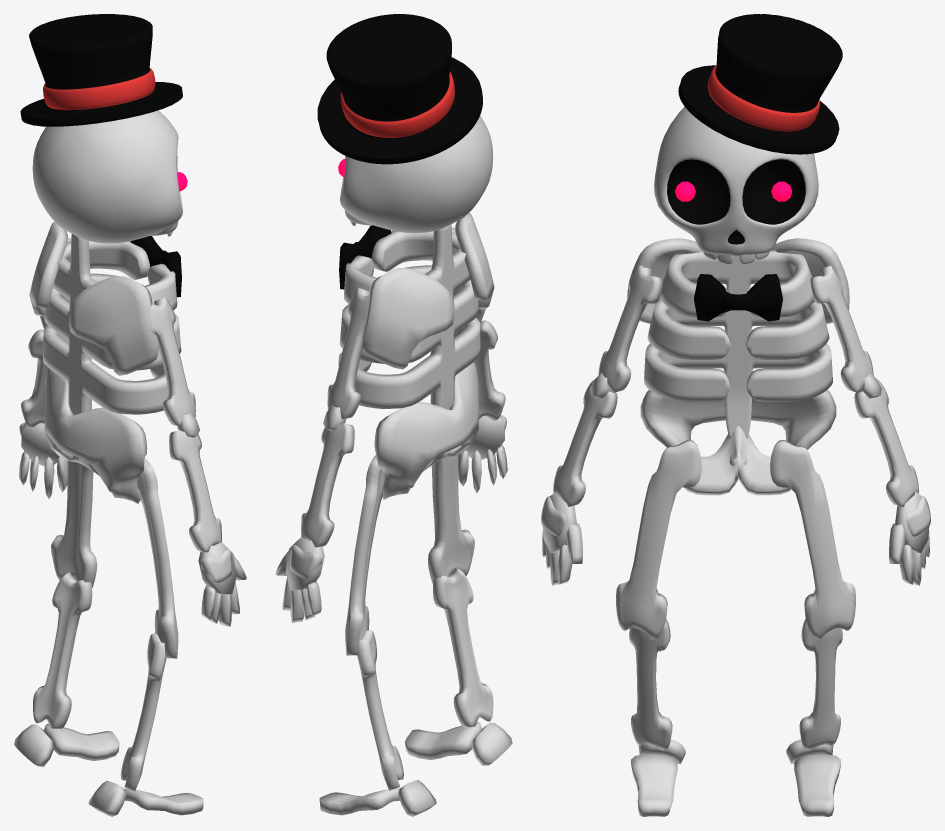
File: skeleton-dance.glb
3 views of the same model, side by side, from view 1: azimuth 30°, elevation 25°; view 2: azimuth 150°, elevation 25°; view 3: azimuth 270°, elevation 25° (orthographic).
Parts seen in each view (by area): view 1: JiggleSkull.024, JiggleSkull.023, JiggleSkull.022, JiggleSkull.025; view 2: JiggleSkull.024, JiggleSkull.023, JiggleSkull.025, JiggleSkull.022; view 3: JiggleSkull.024, JiggleSkull.023, JiggleSkull.025, JiggleSkull.022.
Part boxes in pixels (<box>): JiggleSkull.024: <box>14,238,246,816</box>; JiggleSkull.023: <box>29,222,181,503</box>; JiggleSkull.022: <box>32,110,187,243</box>; JiggleSkull.025: <box>20,14,182,126</box>; JiggleSkull.024: <box>275,227,512,816</box>; JiggleSkull.023: <box>338,213,494,499</box>; JiggleSkull.025: <box>317,14,482,164</box>; JiggleSkull.022: <box>338,115,493,233</box>; JiggleSkull.024: <box>541,265,930,816</box>; JiggleSkull.023: <box>627,238,849,495</box>; JiggleSkull.025: <box>678,14,842,154</box>; JiggleSkull.022: <box>654,106,818,264</box>.
Bounding box in the file's own units: 2 × 10.13 × 4.68.
